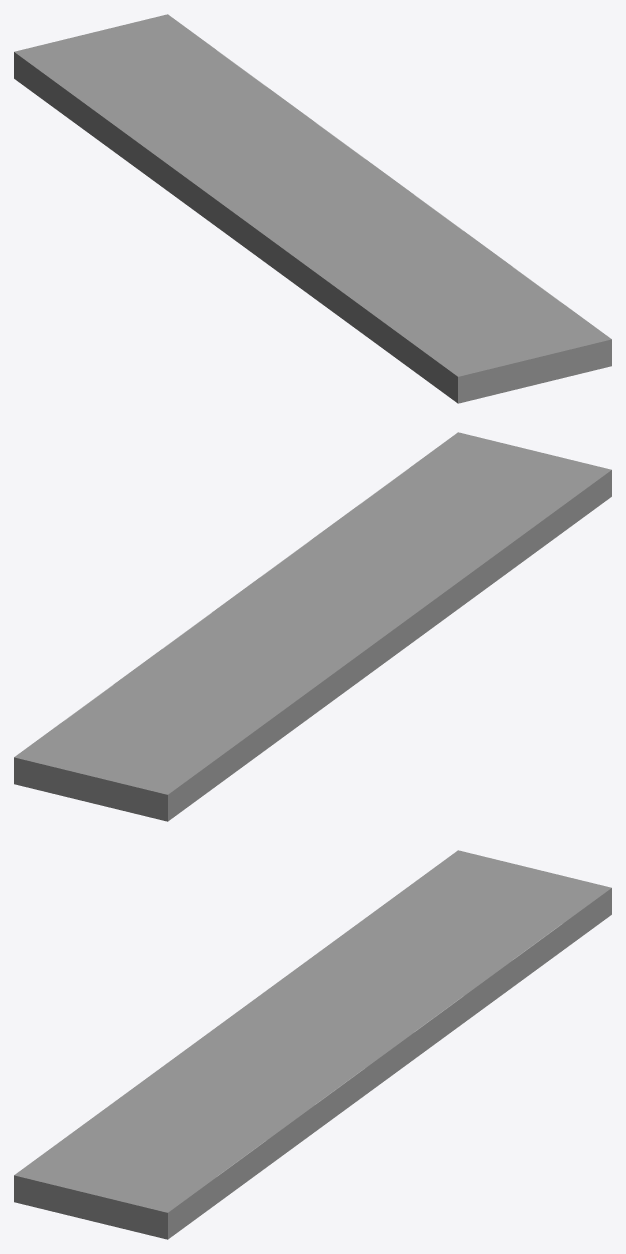
File: sm_blank_road_GEO.fbx
The picture shows the model from 3 angles, top to bottom: view 1: azimuth 30°, elevation 25°; view 2: azimuth 150°, elevation 25°; view 3: azimuth 330°, elevation 25°; orthographic projection.
Visible parts, largest first — view 1: blank_road_GEO; view 2: blank_road_GEO; view 3: blank_road_GEO.
Part boxes in pixels (x1,y1,x2,y2): blank_road_GEO: [14, 14, 611, 403]; blank_road_GEO: [14, 432, 611, 821]; blank_road_GEO: [14, 850, 611, 1239].
Size of the model in its own units: 6 by 1 by 30.
